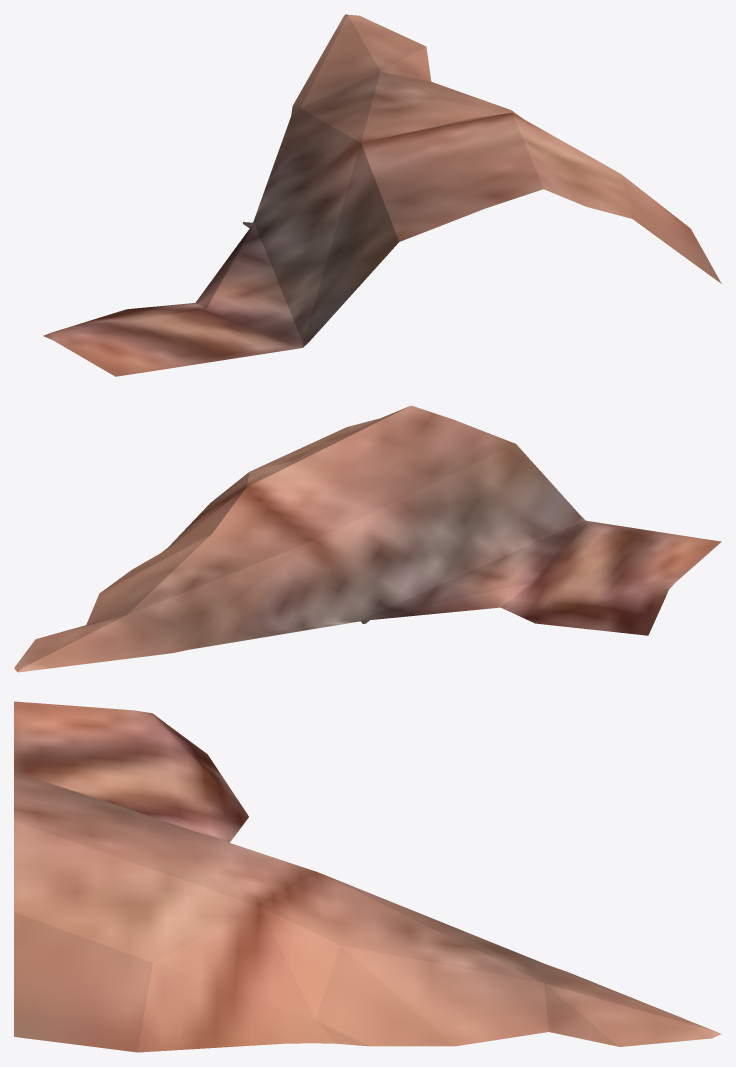
The picture shows the model from 3 angles, top to bottom: view 1: azimuth 30°, elevation 25°; view 2: azimuth 150°, elevation 25°; view 3: azimuth 270°, elevation 25°; orthographic projection. The views are drawn at different scales.
Bounding box in the file's own units: 0.5222 × 0.108 × 0.524.
1 material, 1 textured.
